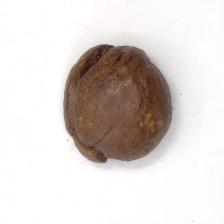NG: (62, 44, 111, 164)
